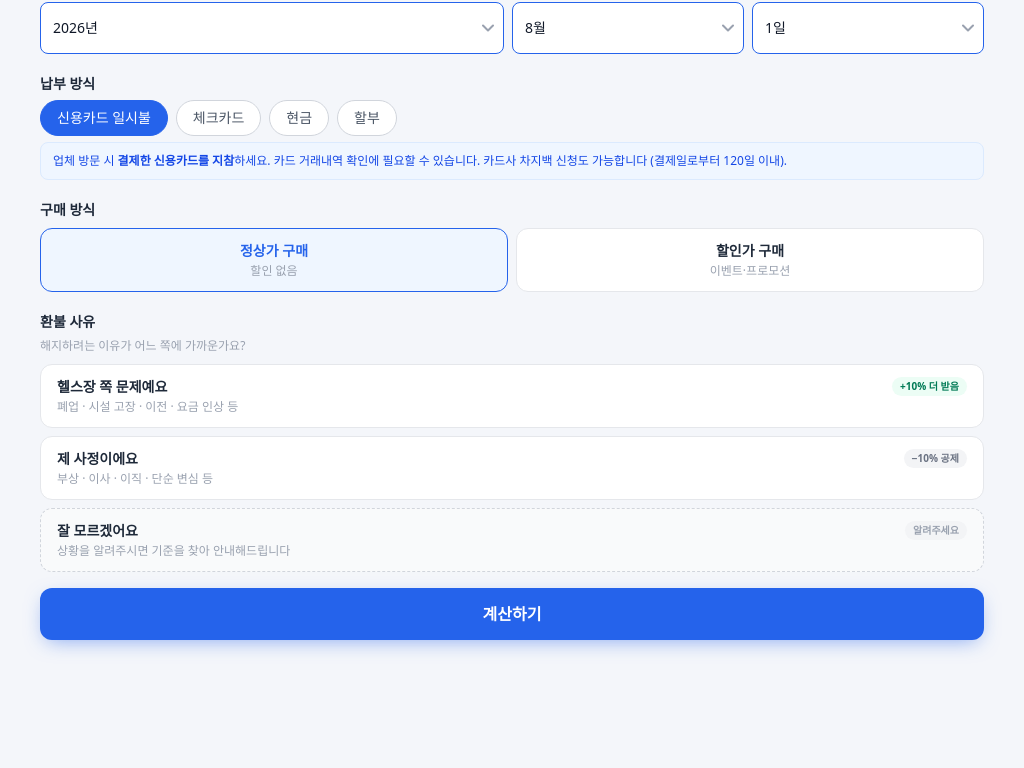
Test: FormPage › 빈 폼 제출 시 에러를 표시한다
The width and height of the screenshot is (1024, 768).
(page scrolled)
Click the button "계산하기" at x=512, y=614, box [40,588,984,640]
(page scrolled)
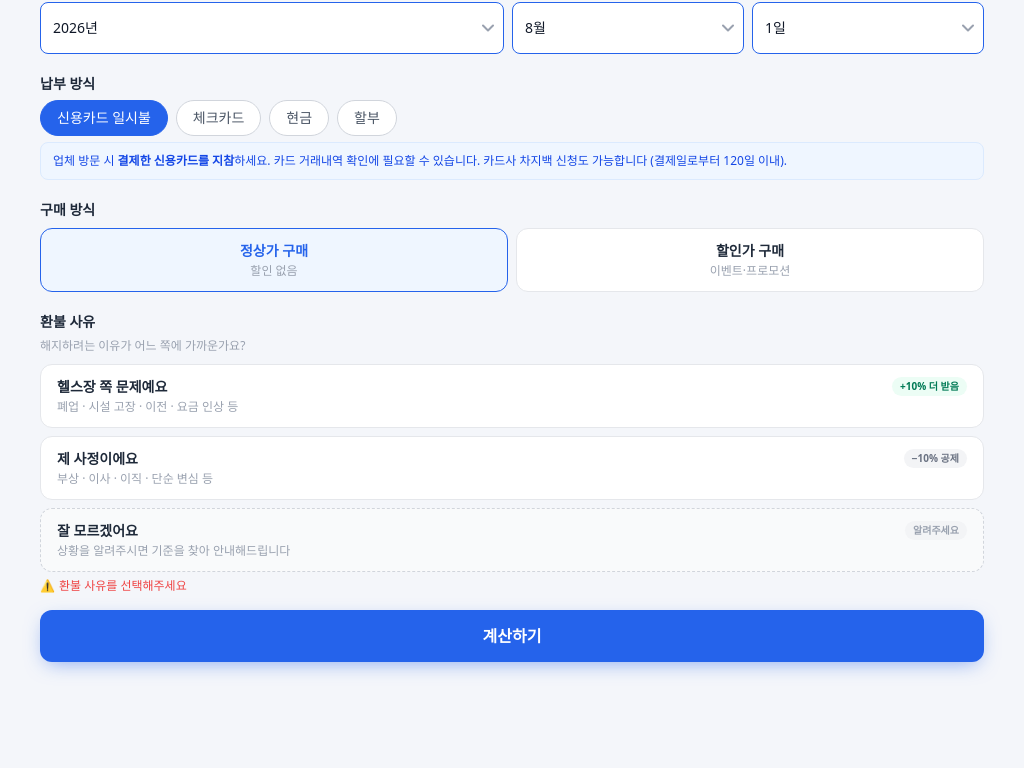
Result: the text "환불 사유를 선택해주세요" is shown at [59,577,187,594]
